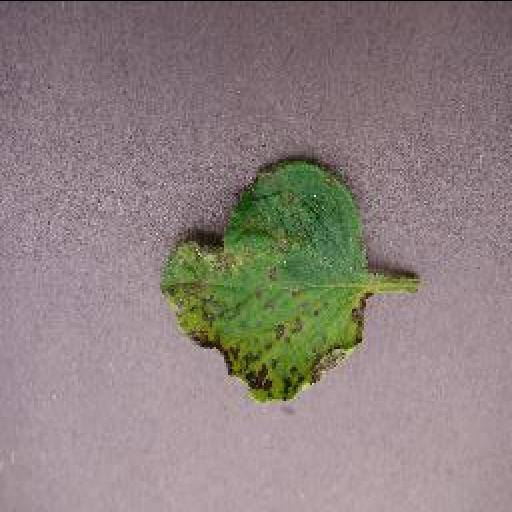disease_tomato: (158, 156, 370, 401)
